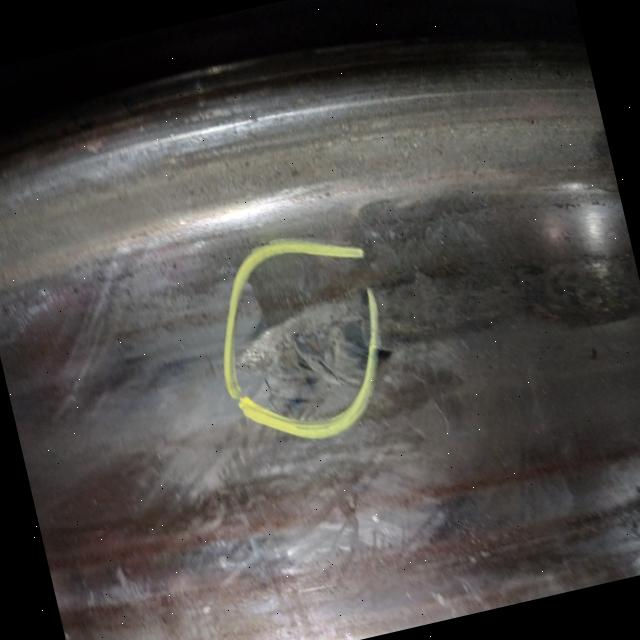Rollerpile: (233, 270, 381, 420)
